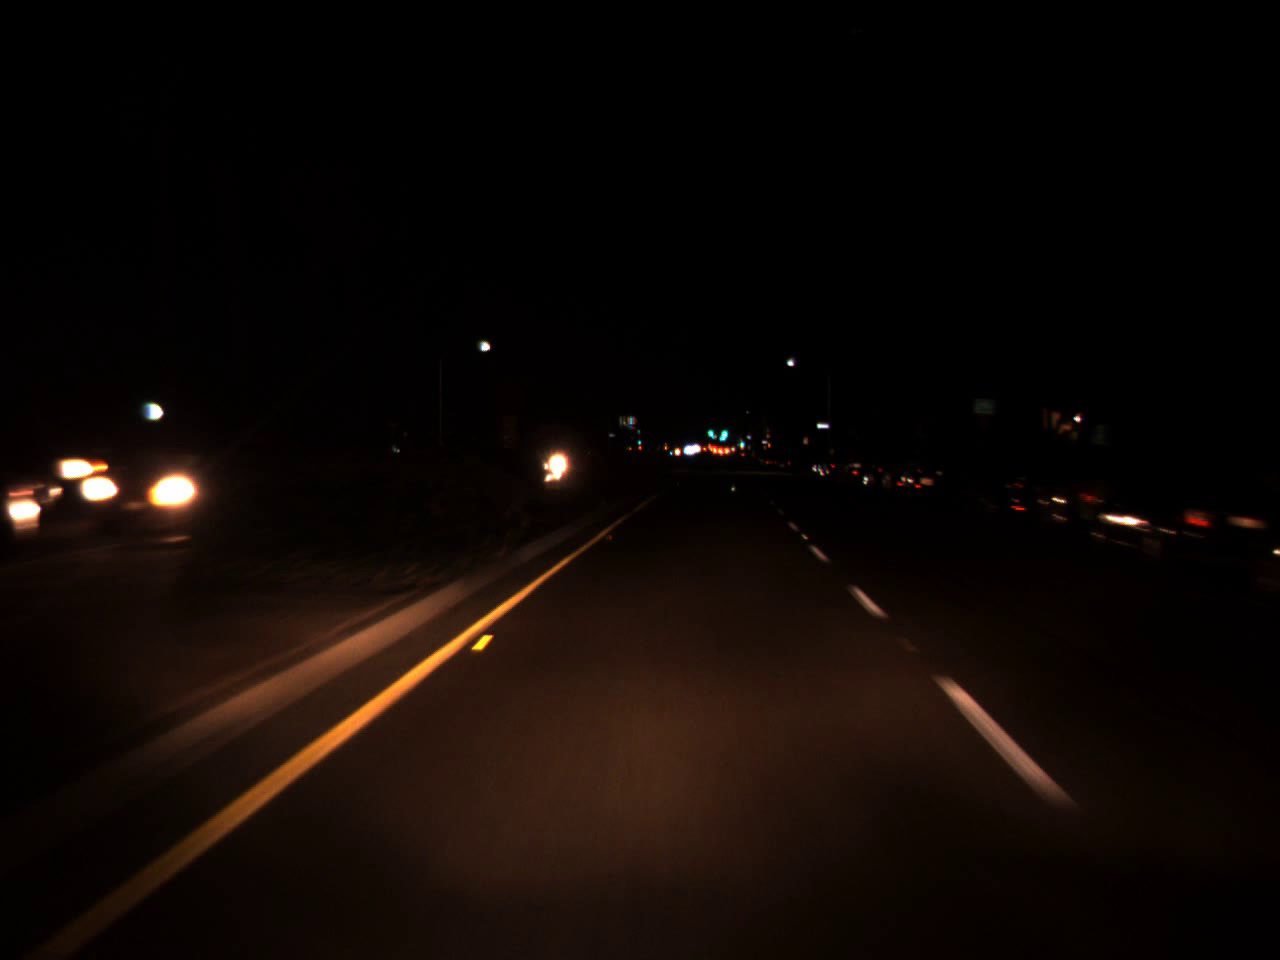go: (716, 417, 730, 441), (736, 431, 746, 449), (706, 423, 713, 438)
